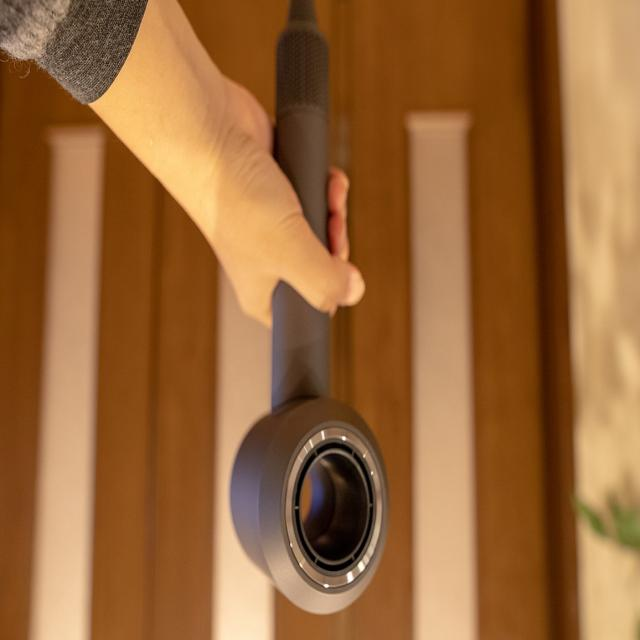dryer: (228, 0, 392, 616)
